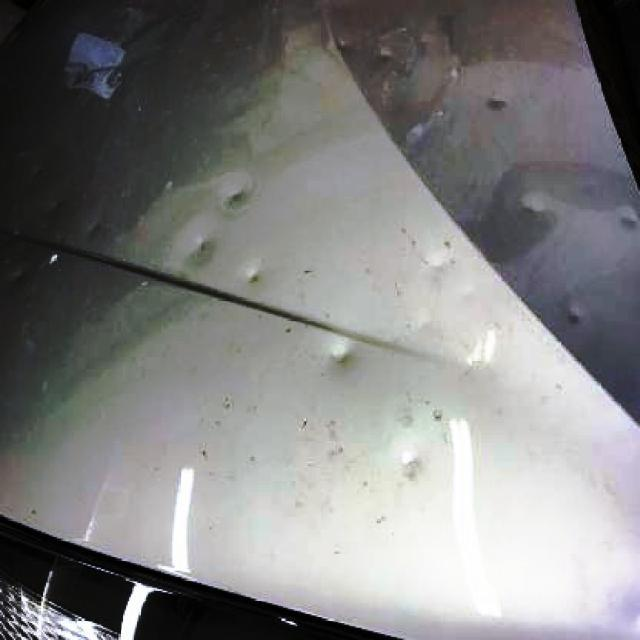dent: (400, 450, 429, 481), (224, 178, 255, 207), (616, 204, 640, 237), (423, 253, 454, 275), (329, 341, 354, 367), (192, 237, 220, 260), (520, 193, 549, 215), (564, 304, 589, 329), (244, 269, 266, 289)
